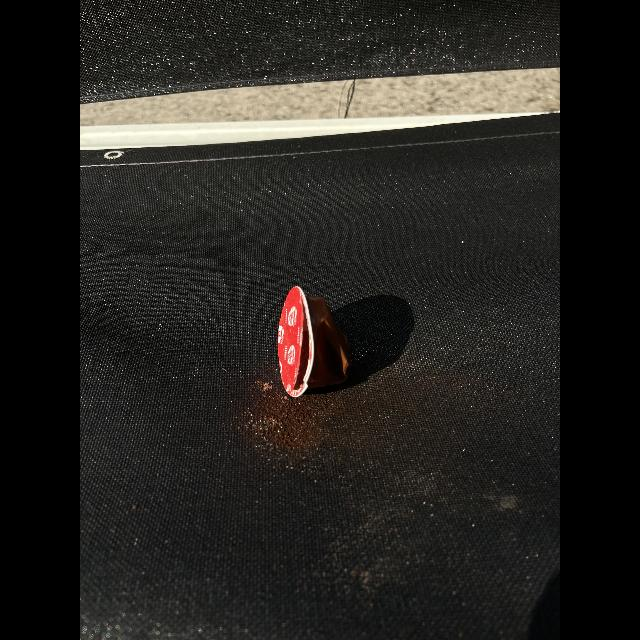damaged_capsule: (274, 276, 362, 399)
